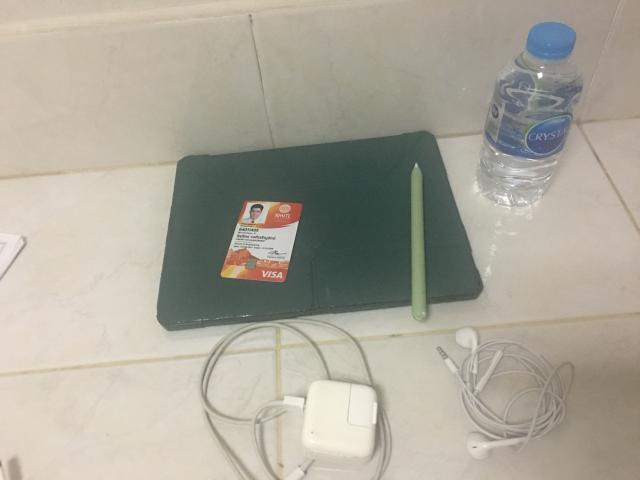bottle: (478, 21, 582, 205)
paper: (0, 232, 25, 278)
wire: (199, 319, 391, 479), (438, 328, 574, 459)
